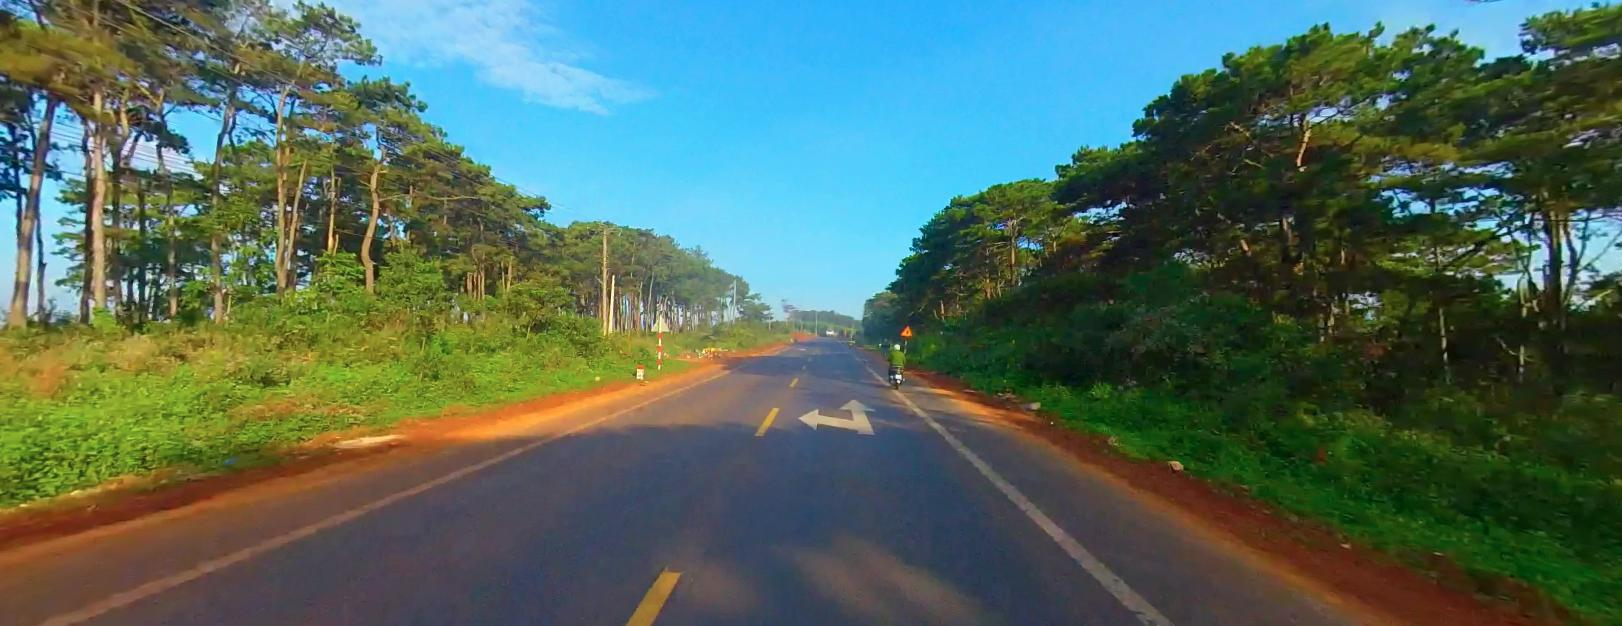Nguy hiem: (901, 323, 912, 334)
